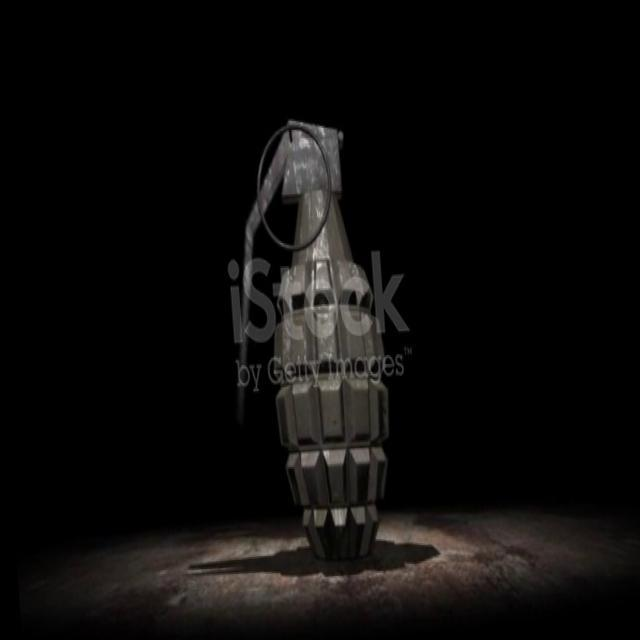grenade: (218, 106, 398, 576)
